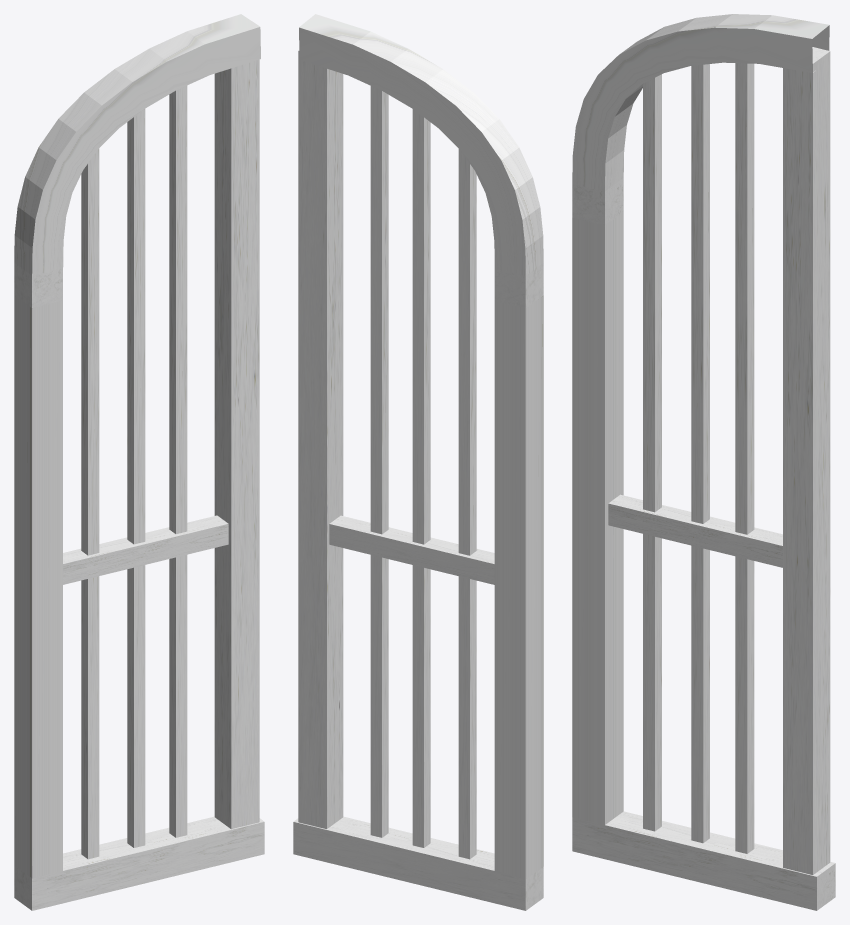
The model's file is p2Izq.obj.
3 renders of one model, left to right at view 1: azimuth 30°, elevation 25°; view 2: azimuth 150°, elevation 25°; view 3: azimuth 330°, elevation 25°, orthographic. The views are drawn at different scales.
Visible parts, largest first — view 1: p2Izq:polySurface41; view 2: p2Izq:polySurface41; view 3: p2Izq:polySurface41.
Part boxes in pixels (<box>): p2Izq:polySurface41: <box>14,14,264,910</box>; p2Izq:polySurface41: <box>293,14,543,910</box>; p2Izq:polySurface41: <box>572,14,835,910</box>.
Bounding box in the file's own units: 1.88 × 6.38 × 0.25.
Materials: 1 (1 with a texture image).
